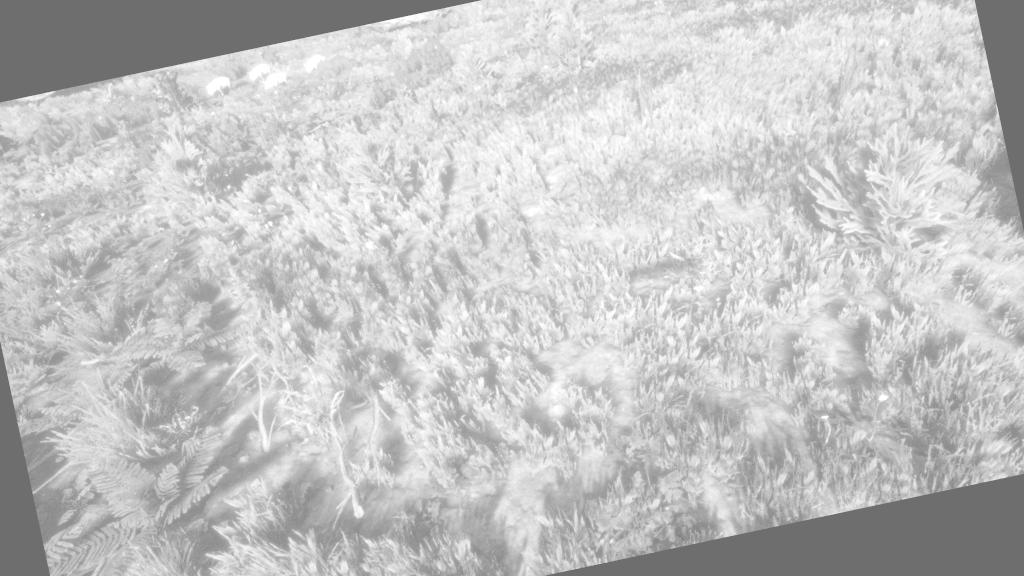pig: (254, 68, 294, 101), (240, 56, 279, 89), (198, 70, 238, 102), (298, 48, 332, 80)
